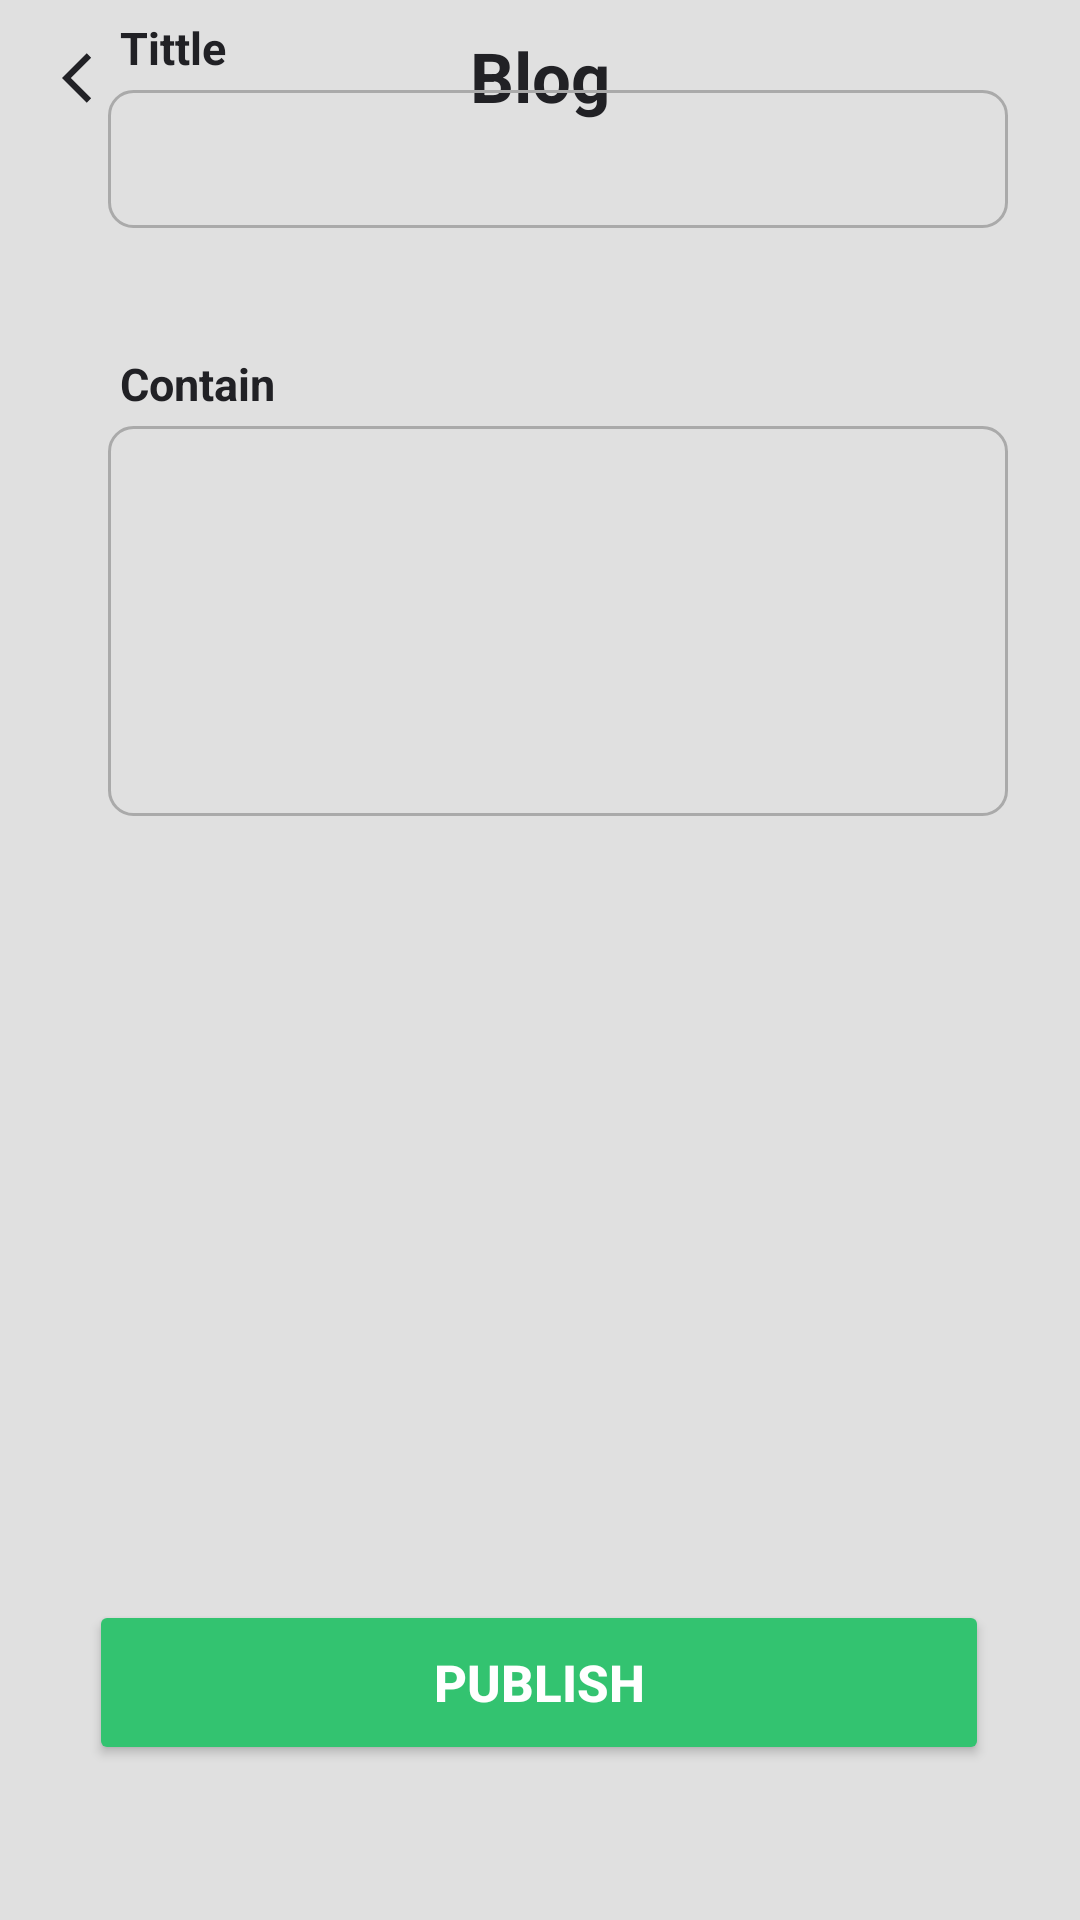

Where icons sit on this 1080w x 1920h app screen, as (x1, y1, x2, y2):
back: (62, 53, 91, 103)
